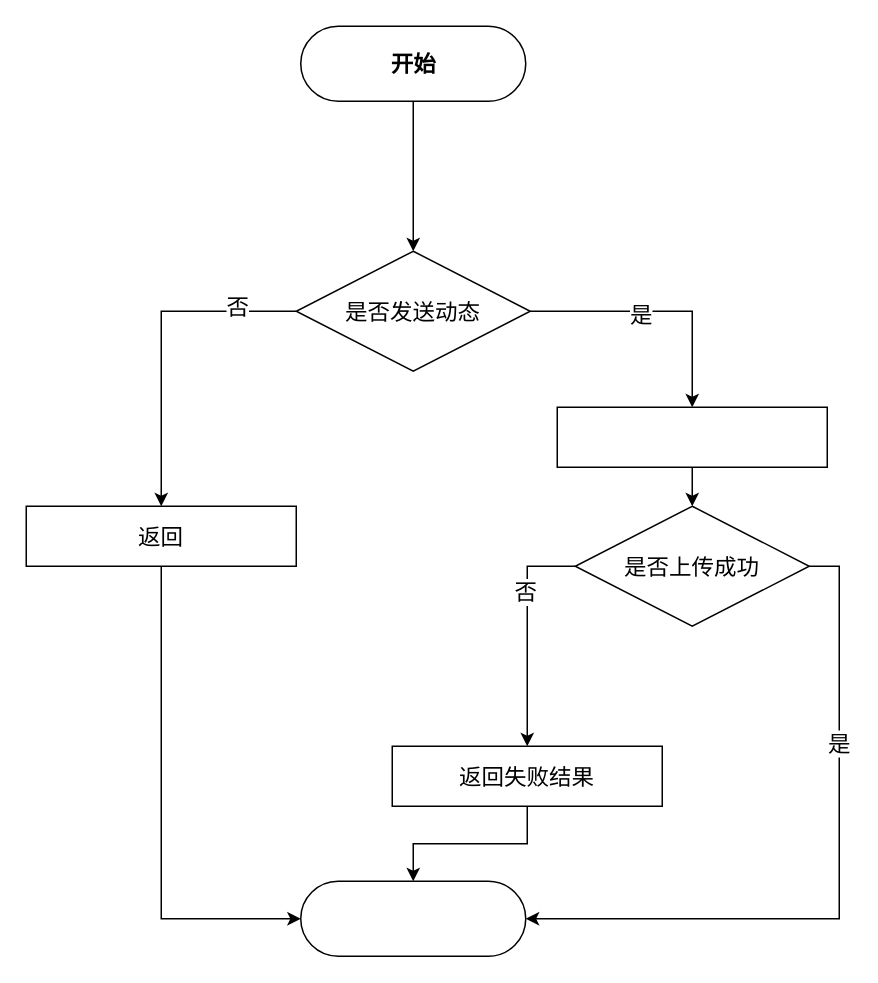
This 878x983 diagram has some shape labels left out. Here are the shapes that lost their labels. From the top down, the centre of each, then its label:
At point 691,436: "上传至服务器".
At point 412,918: "结束".
